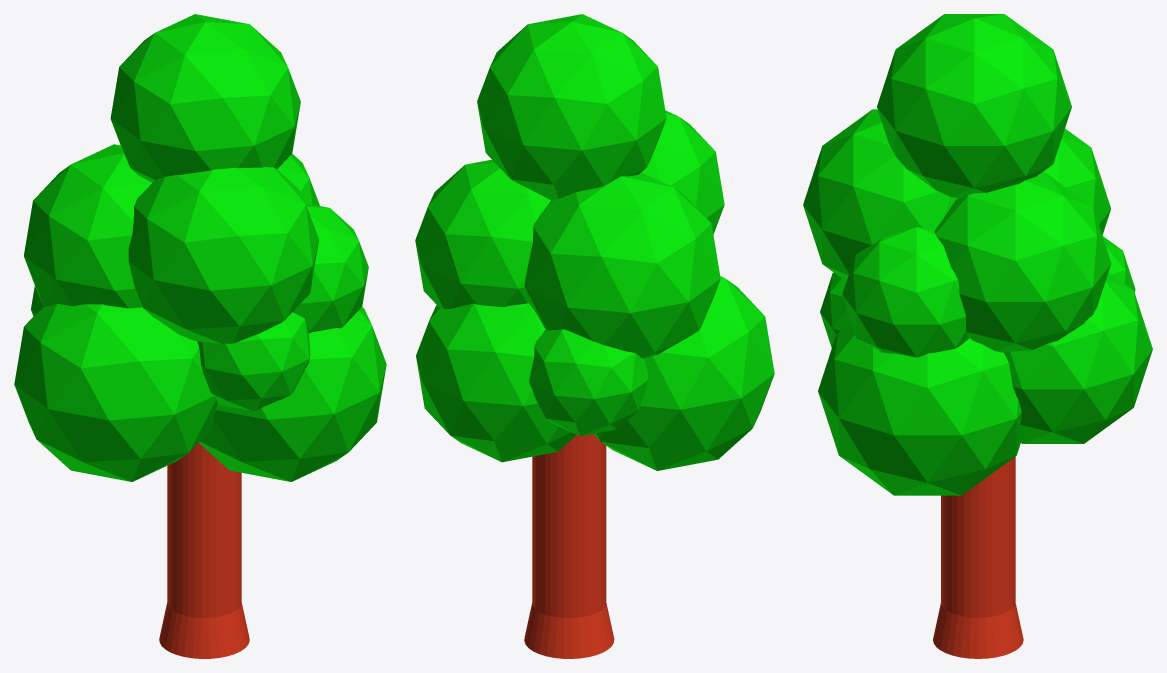
File: Tree.fbx
3 views of the same model, side by side, from view 1: azimuth 30°, elevation 25°; view 2: azimuth 150°, elevation 25°; view 3: azimuth 270°, elevation 25° (orthographic).
Visible parts, largest first — view 1: Tree; view 2: Tree; view 3: Tree.
Boxes of the visible parts, x1,y1,x2,y2 form: Tree: (14, 14, 386, 658); Tree: (415, 14, 774, 658); Tree: (803, 14, 1152, 658).
Bounding box in the file's own units: 499 × 919 × 469.
